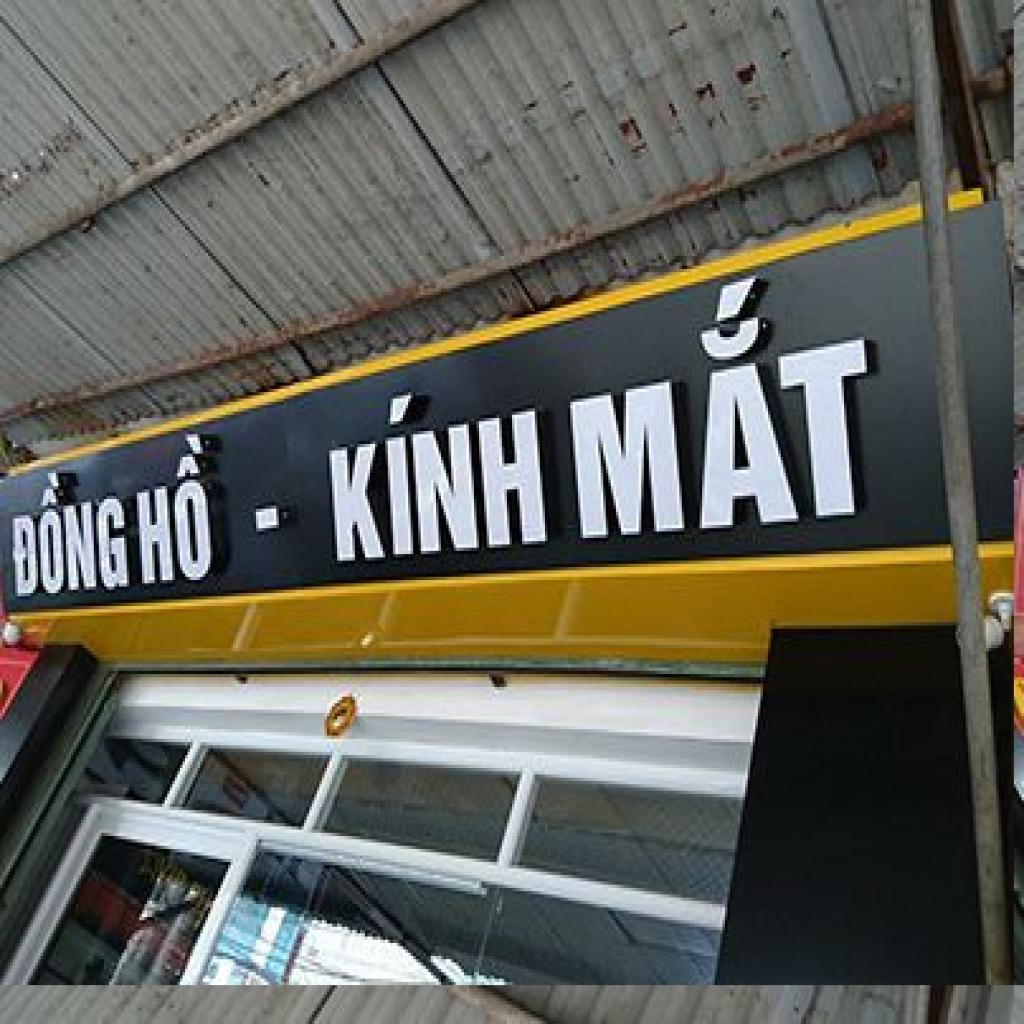text: (307, 337, 560, 587), (2, 450, 134, 596), (129, 425, 223, 596)
